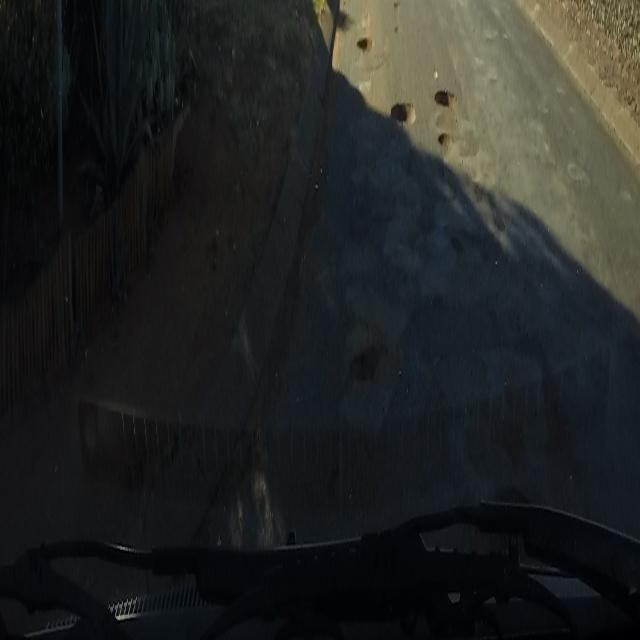pothole: (388, 84, 461, 154), (356, 34, 374, 56)
